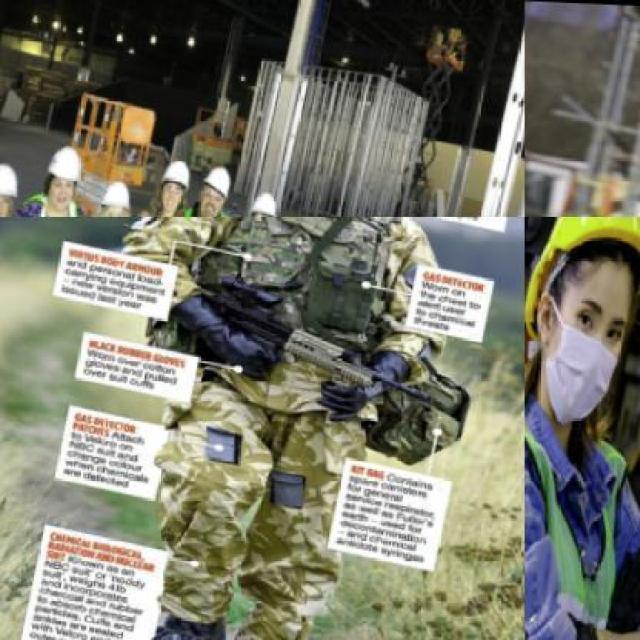Vest: (194, 217, 412, 377), (10, 187, 96, 216)
